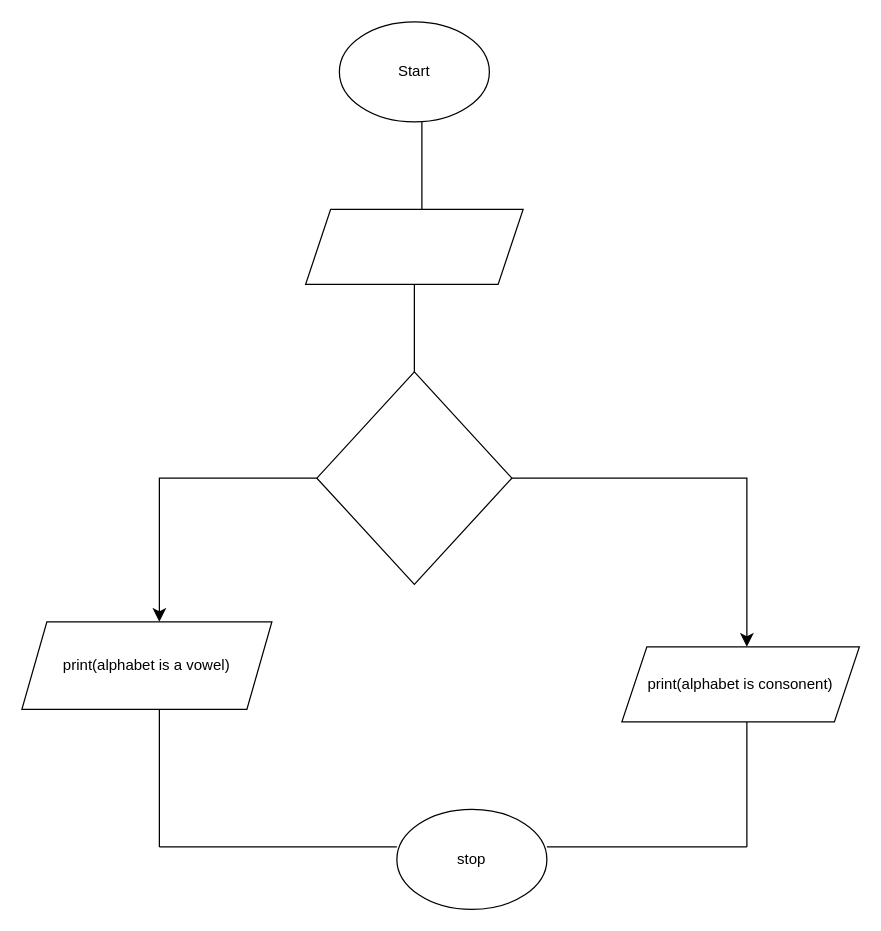
Some shapes in this 881 by 931 pixel diagram are drawn without their labels. Here are the shapes that lost their labels. From the top down, the centre of each, then its label:
At point (413, 246): "input alphabet".
At point (414, 477): "if input == 'A E I O U' 'a e i o u'".
